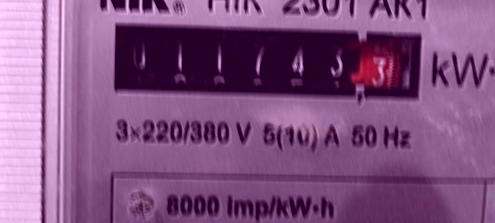0: (129, 36, 149, 72)
1: (212, 38, 228, 73), (175, 38, 186, 71)
3: (326, 43, 346, 79), (370, 56, 389, 90)
4: (289, 43, 307, 77)
7: (250, 41, 269, 75)
screen: (100, 12, 435, 112)
